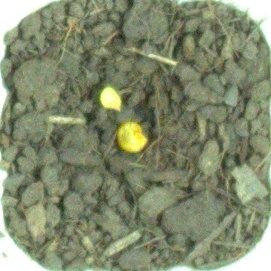pepper seed: (39, 44, 191, 199), (36, 28, 162, 142)
